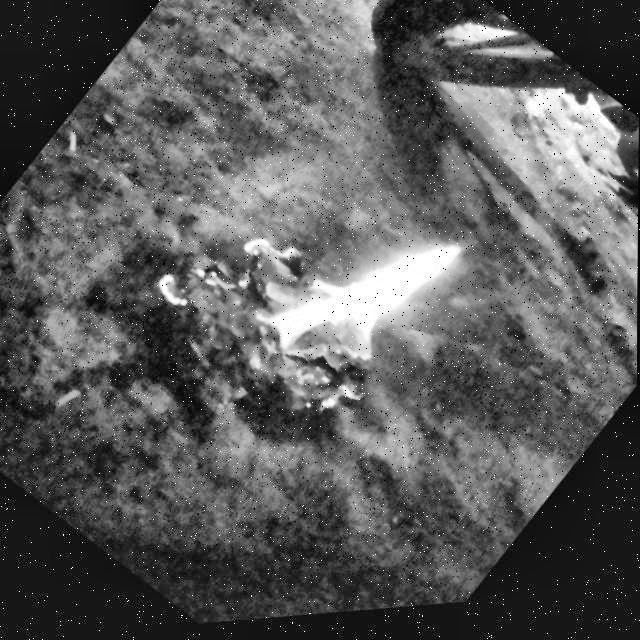Fire: (255, 181, 466, 412)
